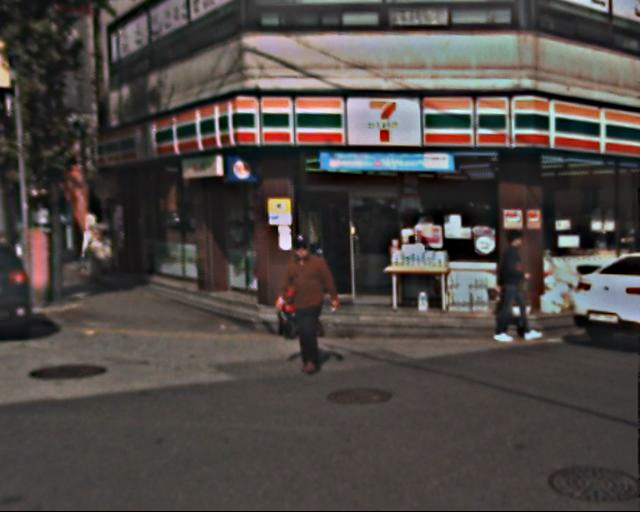person: (278, 237, 339, 375), (491, 230, 544, 346)
